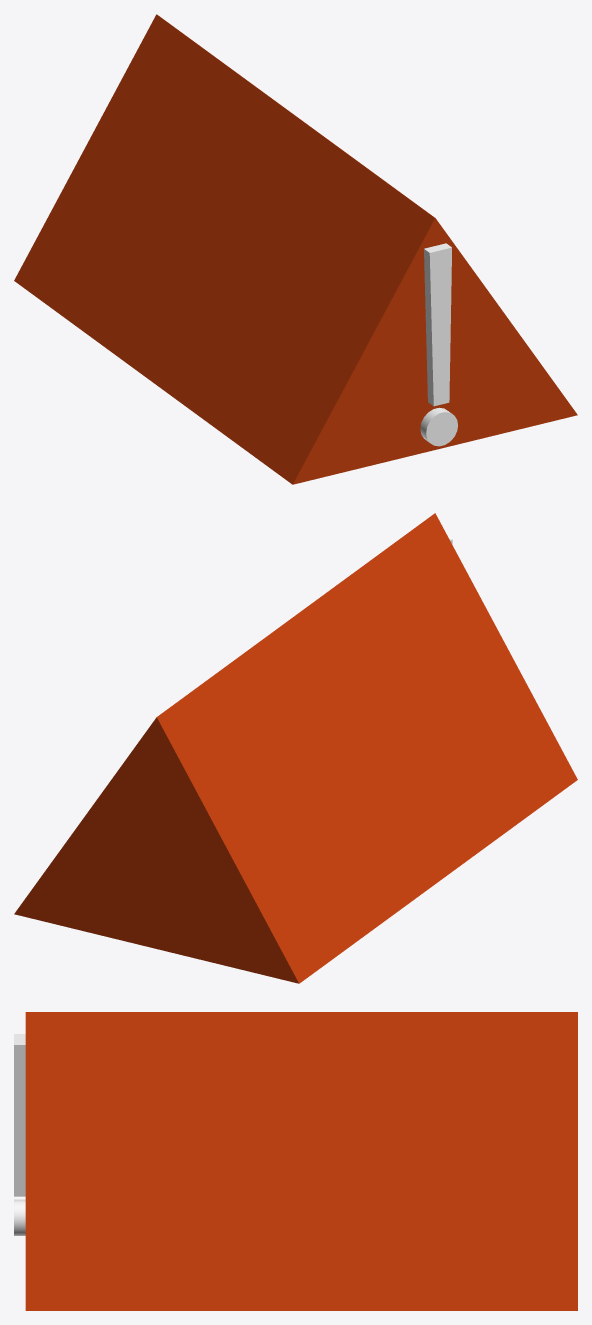
The model's file is Warning.FBX.
3 views of the same model, one above another, from view 1: azimuth 30°, elevation 25°; view 2: azimuth 150°, elevation 25°; view 3: azimuth 270°, elevation 25° (orthographic).
Bounding box in the file's own units: 29.01 × 22.53 × 50.11.
